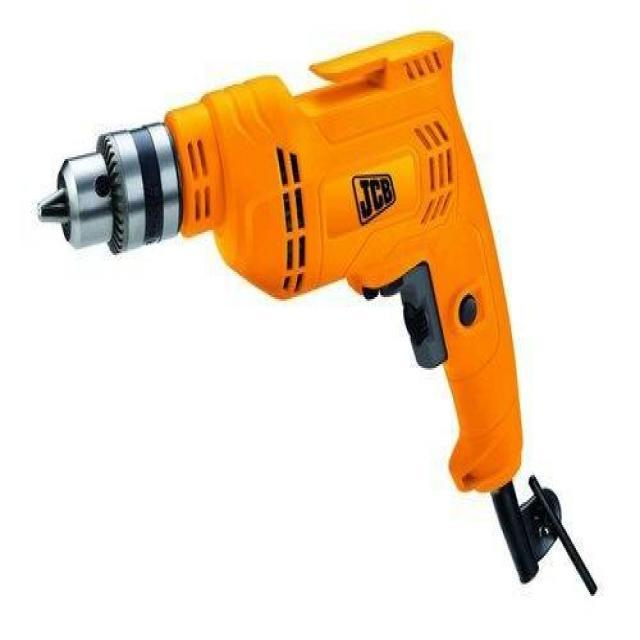drill: (36, 30, 598, 597)
